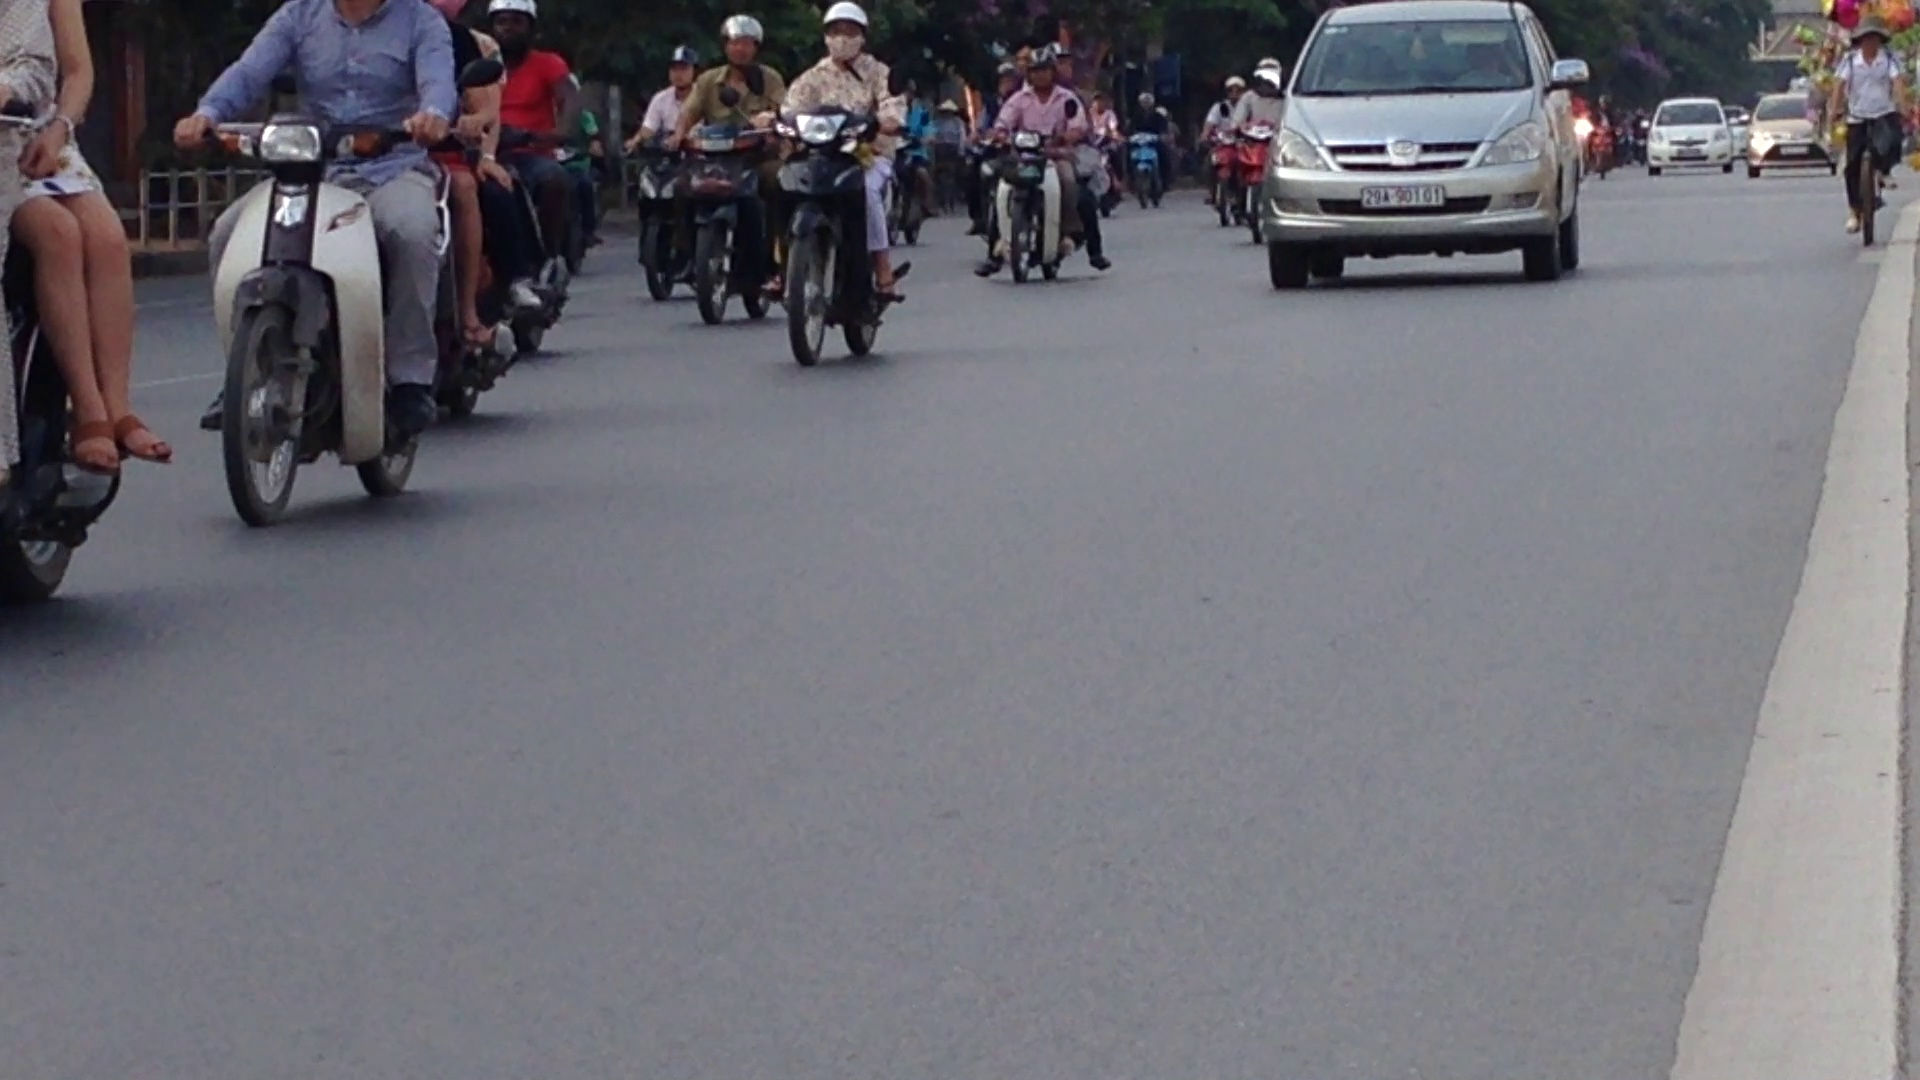person: (1361, 180, 1451, 211)
